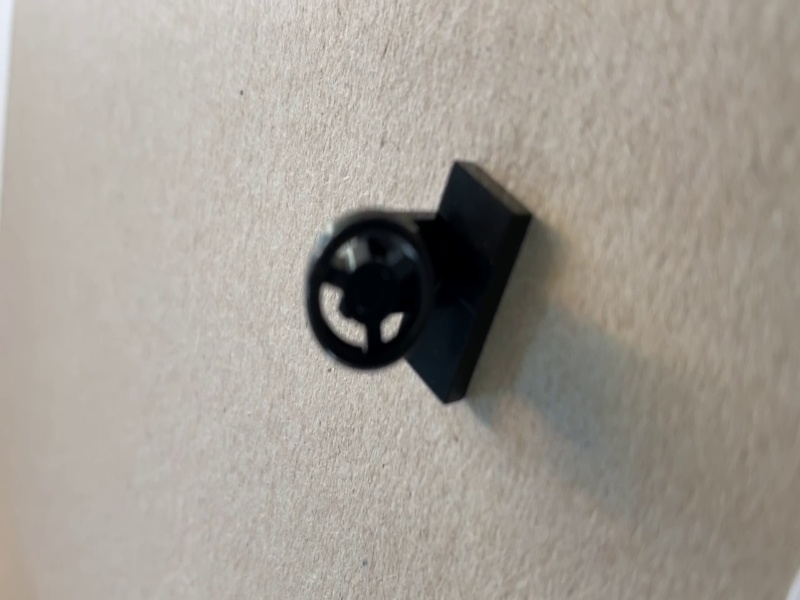steering wheel: (303, 161, 537, 410)
